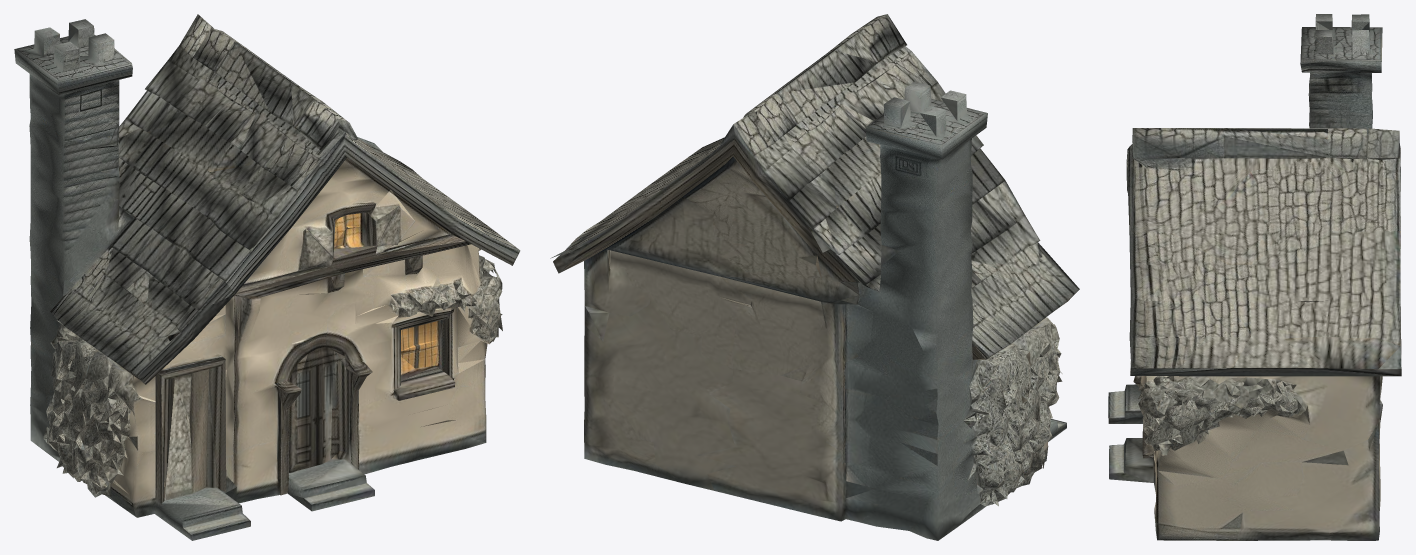
The model's file is ninja_houseCDusk.50903503.glb.
3 renders of one model, left to right at view 1: azimuth 30°, elevation 25°; view 2: azimuth 150°, elevation 25°; view 3: azimuth 270°, elevation 25°, orthographic. The views are drawn at different scales.
Bounding box in the file's own units: 1.98 × 2 × 1.41.
1 material, 1 textured.
